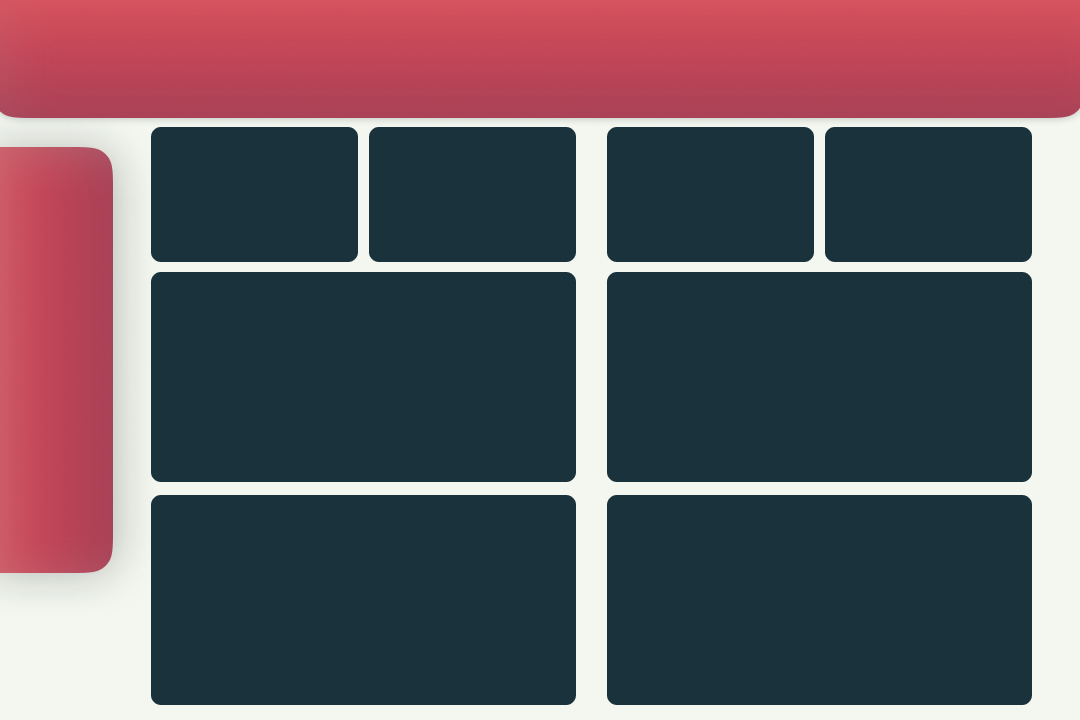

Layout of this report page (visuals, bound fields, positions):
{"tool":"powerbi","page":{"name":"Home","canvas":[1280,720],"ordinal":0},"visuals":[{"type":"textbox","box":[329,183,685,216],"z":0},{"type":"actionButton","box":[220,117,156,325],"z":1000},{"type":"actionButton","box":[363,458,180,45],"z":2000},{"type":"actionButton","box":[576,458,186,47],"z":3000},{"type":"actionButton","box":[795,458,162,45],"z":4000},{"type":"shape","box":[535,460,41,45],"z":5000},{"type":"shape","box":[754,458,41,45],"z":6000}]}

Visuals, with their boxes on the page's 1280x720 design canvas (x1, y1, x2, y2). These are canvas units, not pixel positions in the 1080x720 screenshot, which may show the page scaled, cropped or inside an application window:
textbox: <region>329, 183, 1014, 399</region>
actionButton: <region>220, 117, 376, 442</region>
actionButton: <region>363, 458, 543, 503</region>
actionButton: <region>576, 458, 762, 505</region>
actionButton: <region>795, 458, 957, 503</region>
shape: <region>535, 460, 576, 505</region>
shape: <region>754, 458, 795, 503</region>
